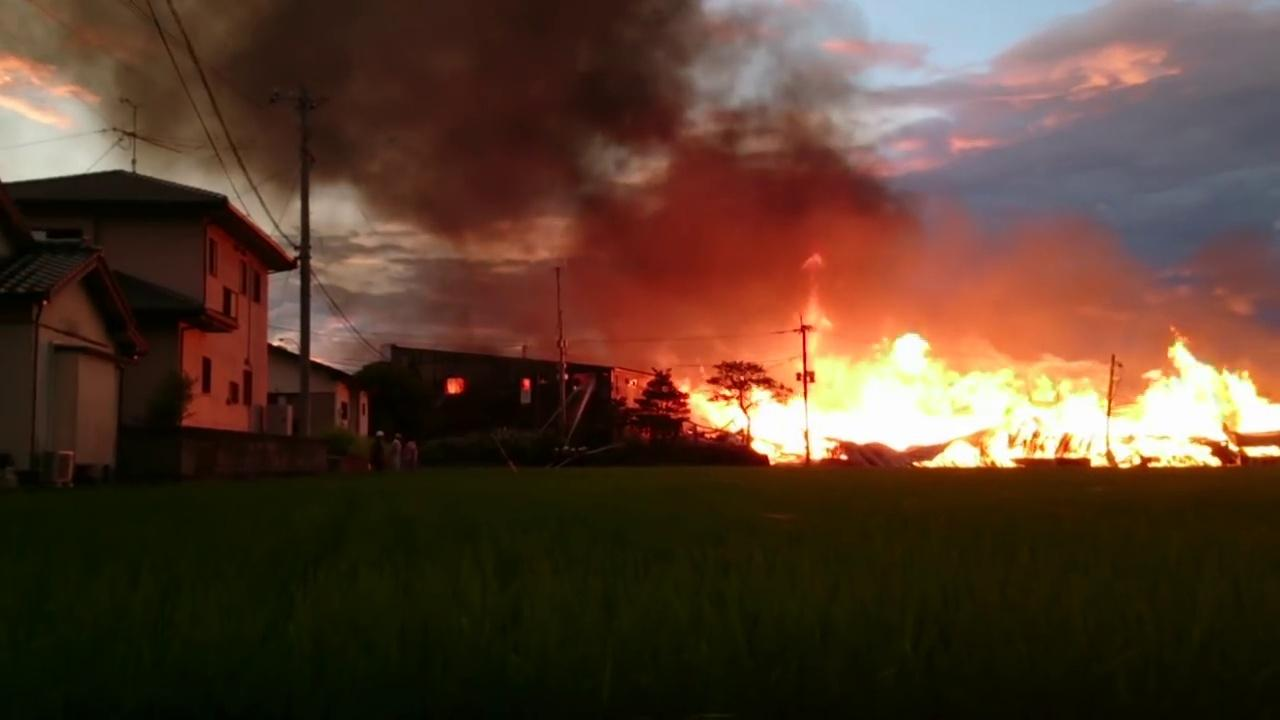fire: (802, 354, 1244, 468)
smoke: (250, 8, 684, 144)
